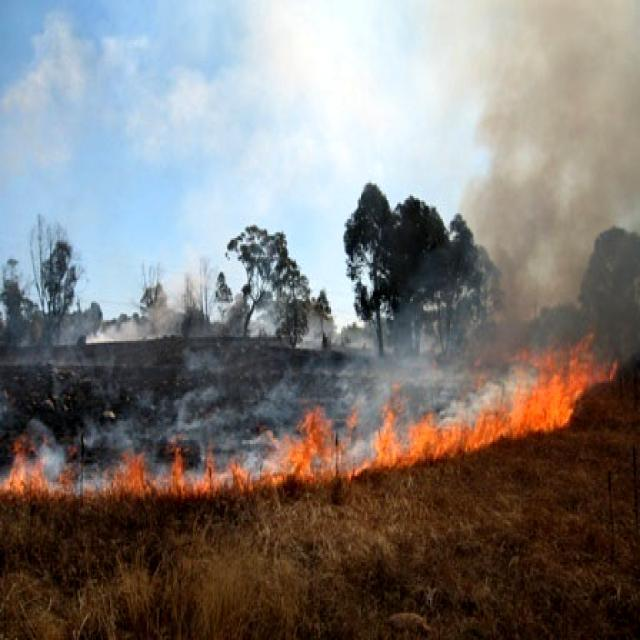Fire: (6, 400, 428, 504), (426, 342, 618, 478)
Smoke: (31, 252, 494, 434), (450, 9, 640, 362)
